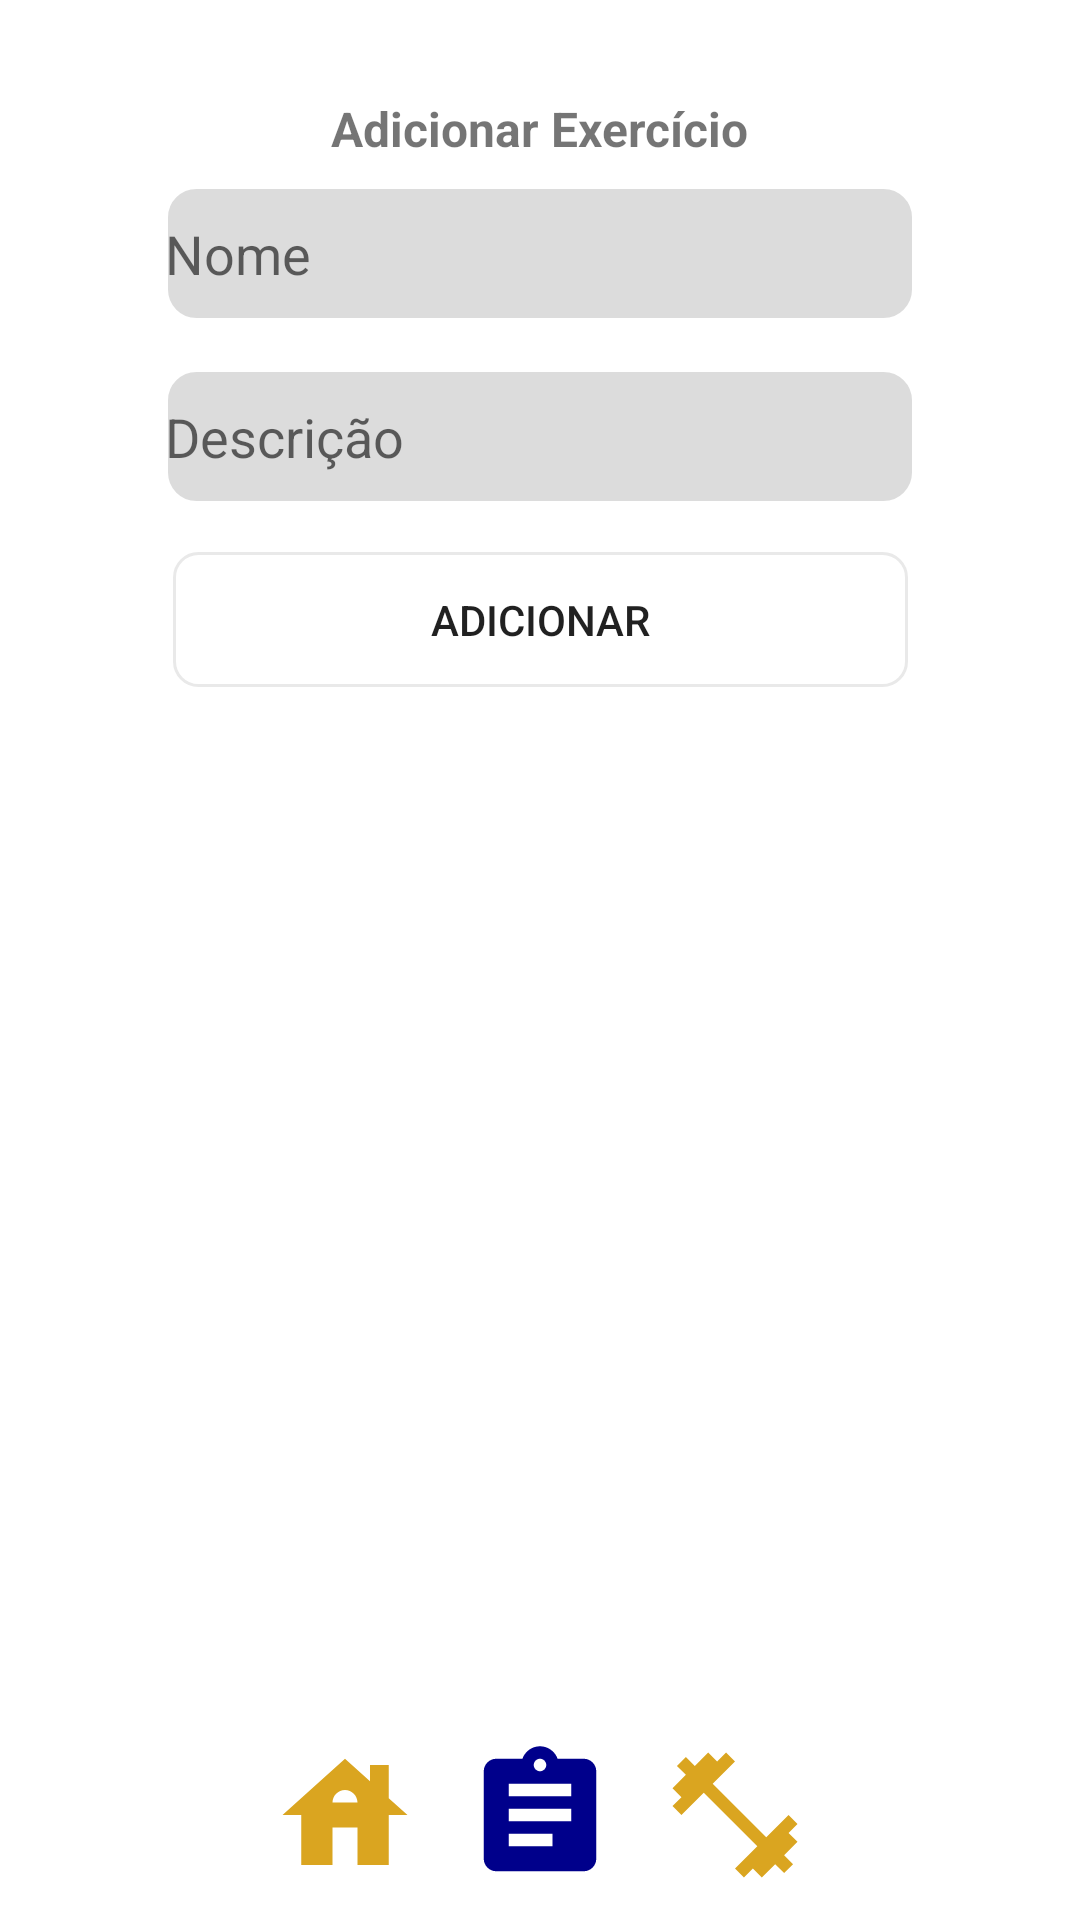

Screen size 1080 × 1920. Icon name, then its center in pixels as (x=x, y=y):
exercise: (x=735, y=1815)
home: (x=345, y=1812)
